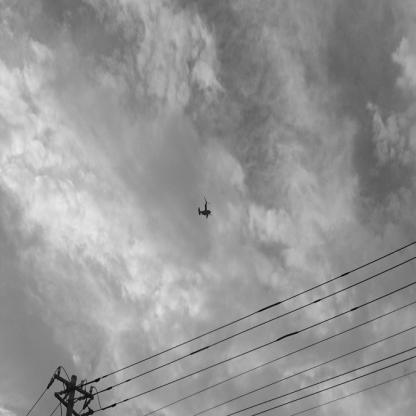V22: (199, 197, 213, 220)
